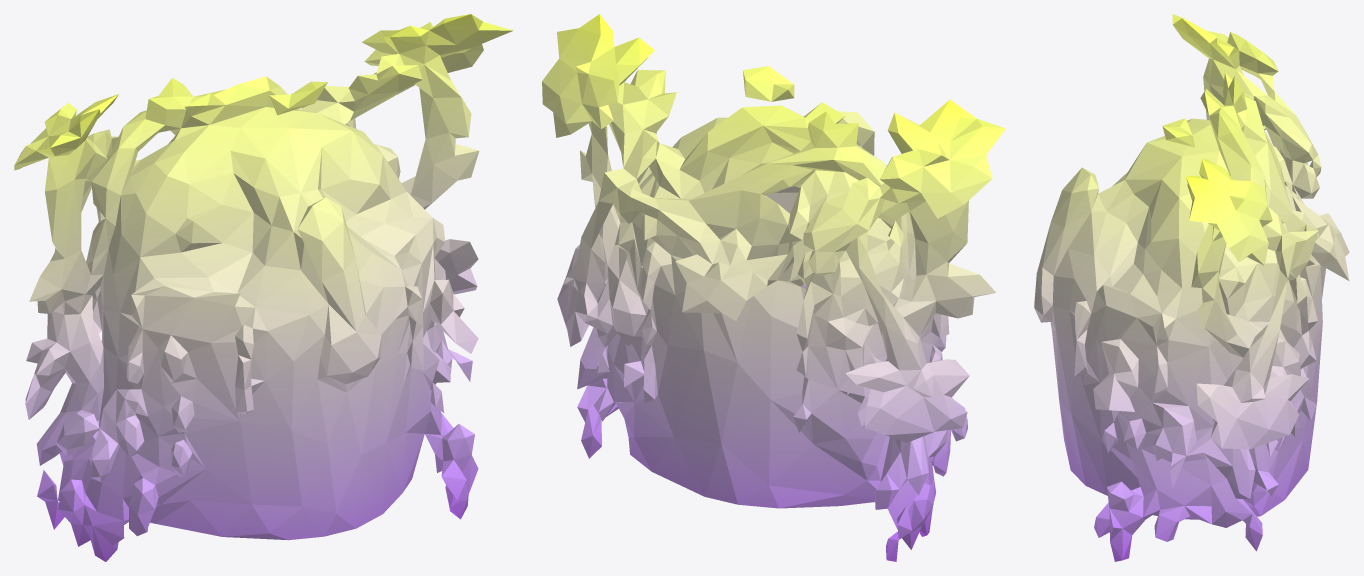
The model's file is 136_cyb_laser_gradient_fish_scales_2983_2026_10_03_af305c.glb.
3 renders of one model, left to right at view 1: azimuth 30°, elevation 25°; view 2: azimuth 150°, elevation 25°; view 3: azimuth 270°, elevation 25°, orthographic. The views are drawn at different scales.
Visible parts, largest first — view 1: geometry_0; view 2: geometry_0; view 3: geometry_0.
Boxes of the visible parts, x1,y1,x2,y2 form: geometry_0: [14, 14, 512, 561]; geometry_0: [542, 14, 1005, 561]; geometry_0: [1034, 14, 1349, 561].
Bounding box in the file's own units: 0.9715 × 0.8983 × 0.625.
